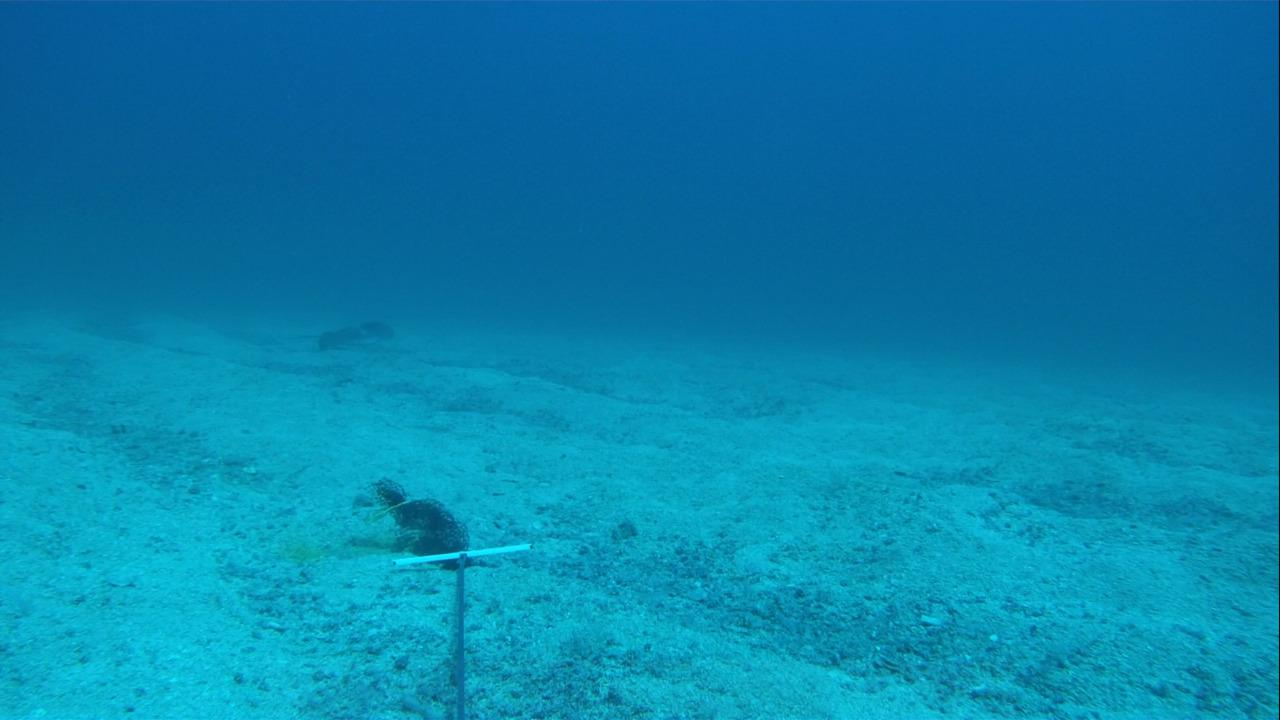myliobatis: (264, 311, 394, 355)
